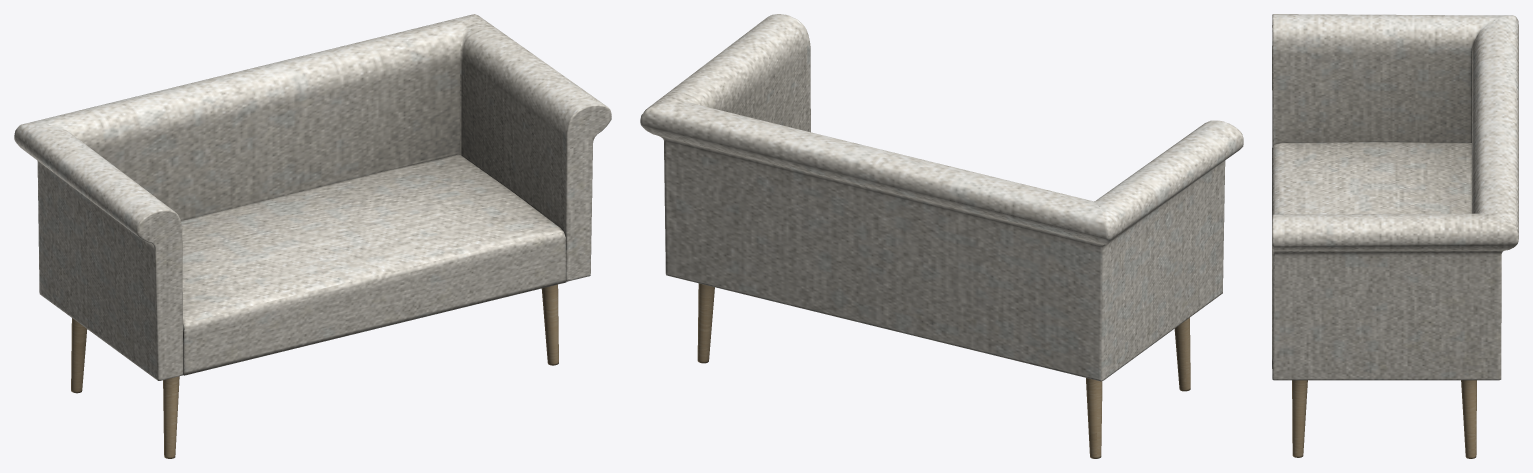
Rendered from PompeiiLightGreyDoubleSofa.glb.
3 renders of one model, left to right at view 1: azimuth 30°, elevation 25°; view 2: azimuth 150°, elevation 25°; view 3: azimuth 270°, elevation 25°, orthographic. The views are drawn at different scales.
Parts seen in each view (by area): view 1: Sofa.000; view 2: Sofa.000; view 3: Sofa.000.
Part boxes in pixels (bbox=[...]): Sofa.000: bbox=[14, 14, 611, 458]; Sofa.000: bbox=[640, 14, 1243, 458]; Sofa.000: bbox=[1272, 14, 1518, 458].
Size of the model in its own units: 1.42 by 0.7461 by 0.6698.
1 material, 1 textured.
